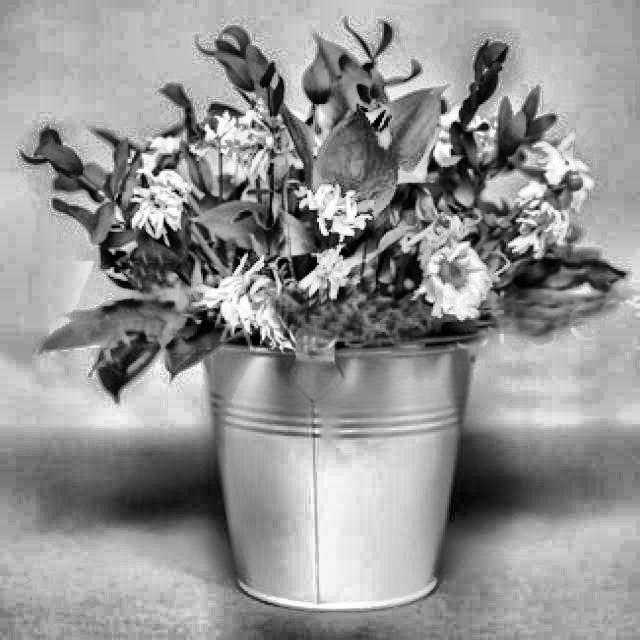plants: (5, 21, 638, 476), (128, 132, 218, 273), (284, 179, 378, 312), (455, 32, 527, 180), (403, 212, 492, 330)
